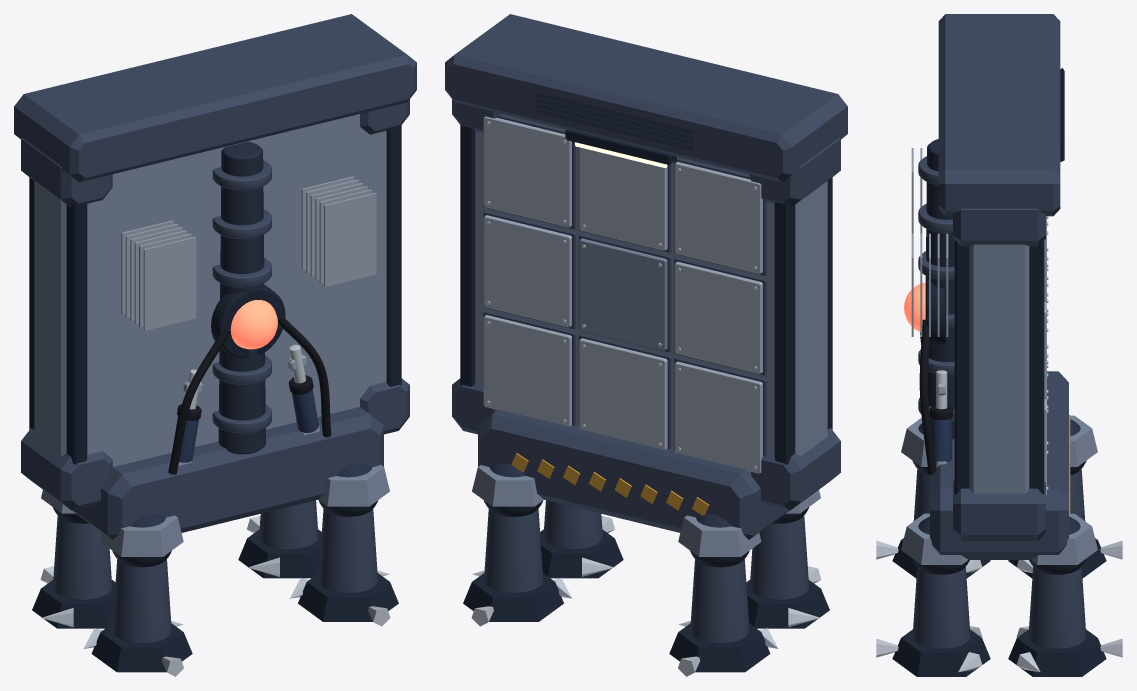
The model's file is enemy_monolith.glb.
3 renders of one model, left to right at view 1: azimuth 30°, elevation 25°; view 2: azimuth 150°, elevation 25°; view 3: azimuth 270°, elevation 25°, orthographic. The views are drawn at different scales.
Parts seen in each view (by area): view 1: monolith_slab, monolith_crown, monolith_pelvis, monolith_spine, monolith_radiator_l, monolith_radiator_r, monolith_edge_rail_l, monolith_leg_r_b, monolith_leg_l_b, monolith_corner-11.32, monolith_edge_rail_r, monolith_leg_l_f (+22 smaller); view 2: monolith_crown, monolith_pelvis, monolith_slab, monolith_tile_11_face, monolith_tile_21_face, monolith_tile_01_face, monolith_tile_02_face, monolith_tile_22_face, monolith_tile_20_face, monolith_tile_10_face, monolith_tile_00_face, monolith_tile_12_face (+30 smaller); view 3: monolith_crown, monolith_slab, monolith_edge_rail_r, monolith_pelvis, monolith_corner11.32, monolith_leg_r_f, monolith_leg_r_b, monolith_corner13.56, monolith_spine, monolith_foot_r_f, monolith_foot_r_b, monolith_radiator_r (+18 smaller).
Boxes of the visible parts, x1=… form: monolith_slab: x1=34, y1=114, x2=386, y2=466; monolith_crown: x1=14, y1=14, x2=416, y2=182; monolith_pelvis: x1=72, y1=407, x2=383, y2=539; monolith_spine: x1=218, y1=141, x2=265, y2=454; monolith_radiator_l: x1=121, y1=220, x2=196, y2=330; monolith_radiator_r: x1=301, y1=176, x2=376, y2=286; monolith_edge_rail_l: x1=29, y1=177, x2=87, y2=464; monolith_leg_r_b: x1=318, y1=508, x2=377, y2=593; monolith_leg_l_b: x1=112, y1=559, x2=171, y2=643; monolith_corner-11.32: x1=21, y1=428, x2=112, y2=510; monolith_edge_rail_r: x1=386, y1=124, x2=401, y2=386; monolith_leg_l_f: x1=53, y1=515, x2=112, y2=600; monolith_crown: x1=445, y1=14, x2=847, y2=182; monolith_pelvis: x1=478, y1=409, x2=789, y2=539; monolith_slab: x1=475, y1=114, x2=827, y2=455; monolith_tile_11_face: x1=579, y1=238, x2=667, y2=350; monolith_tile_21_face: x1=483, y1=215, x2=571, y2=327; monolith_tile_01_face: x1=674, y1=261, x2=762, y2=373; monolith_tile_02_face: x1=674, y1=162, x2=762, y2=273; monolith_tile_22_face: x1=483, y1=116, x2=571, y2=227; monolith_tile_20_face: x1=483, y1=315, x2=571, y2=426; monolith_tile_10_face: x1=579, y1=338, x2=667, y2=449; monolith_tile_00_face: x1=674, y1=361, x2=762, y2=473; monolith_tile_12_face: x1=579, y1=147, x2=667, y2=250; monolith_crown: x1=938, y1=14, x2=1060, y2=216; monolith_slab: x1=969, y1=244, x2=1029, y2=493; monolith_edge_rail_r: x1=954, y1=240, x2=1044, y2=494; monolith_pelvis: x1=930, y1=371, x2=1068, y2=559; monolith_corner11.32: x1=953, y1=480, x2=1045, y2=540; monolith_leg_r_f: x1=1028, y1=566, x2=1086, y2=649; monolith_leg_r_b: x1=912, y1=566, x2=970, y2=649; monolith_corner13.56: x1=953, y1=208, x2=1045, y2=246; monolith_spine: x1=925, y1=139, x2=954, y2=439; monolith_foot_r_f: x1=1008, y1=629, x2=1106, y2=676; monolith_foot_r_b: x1=892, y1=629, x2=990, y2=676; monolith_radiator_r: x1=911, y1=233, x2=948, y2=336.
Bounding box in the file's own units: 2.71 × 3.95 × 1.7.
